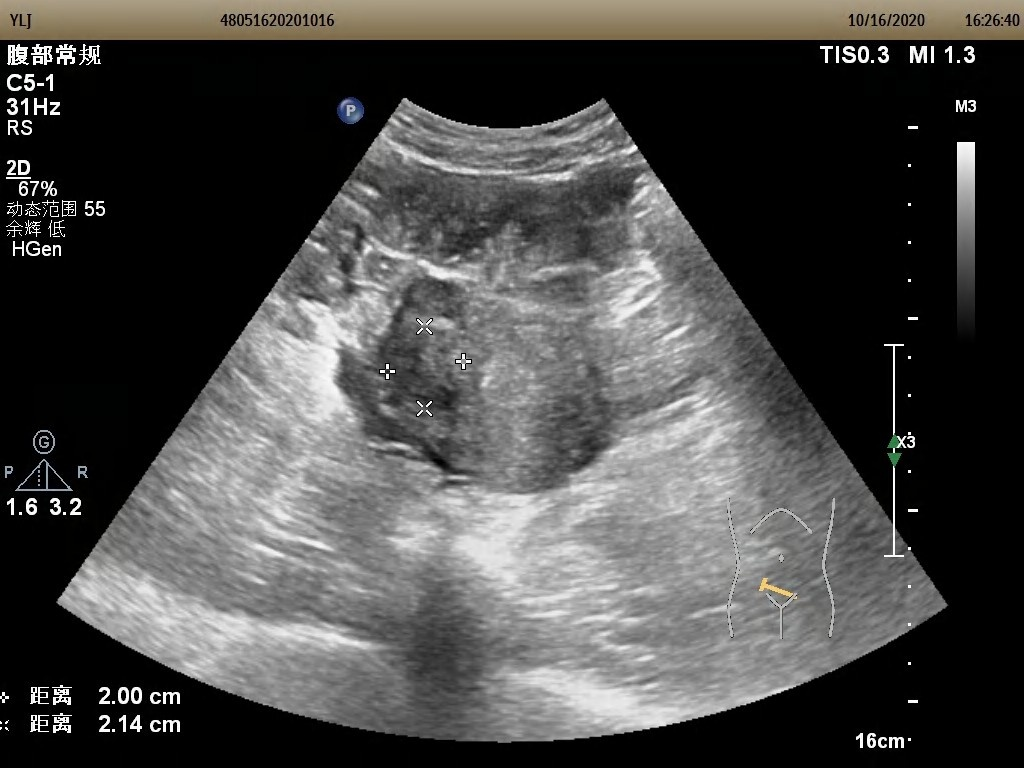肌瘤: (382, 323, 459, 406)
